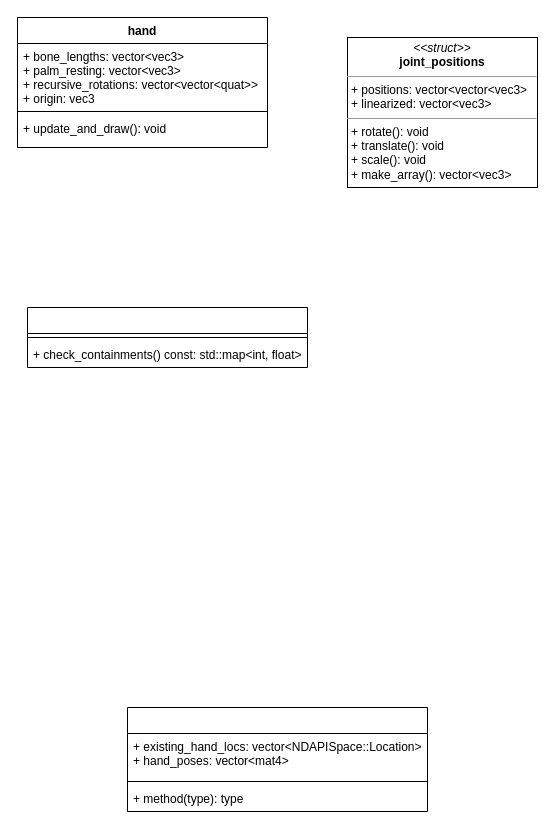
Image size: 555x832. Some labels were removed from this diagram. The shapes that lost their labels are listed below. From the top down, each one's box as (x1, y1, x2, y2) in pixels, then its label:
(26, 306, 308, 368): conn_panel
(126, 706, 428, 812): vr_ctrl_panel
